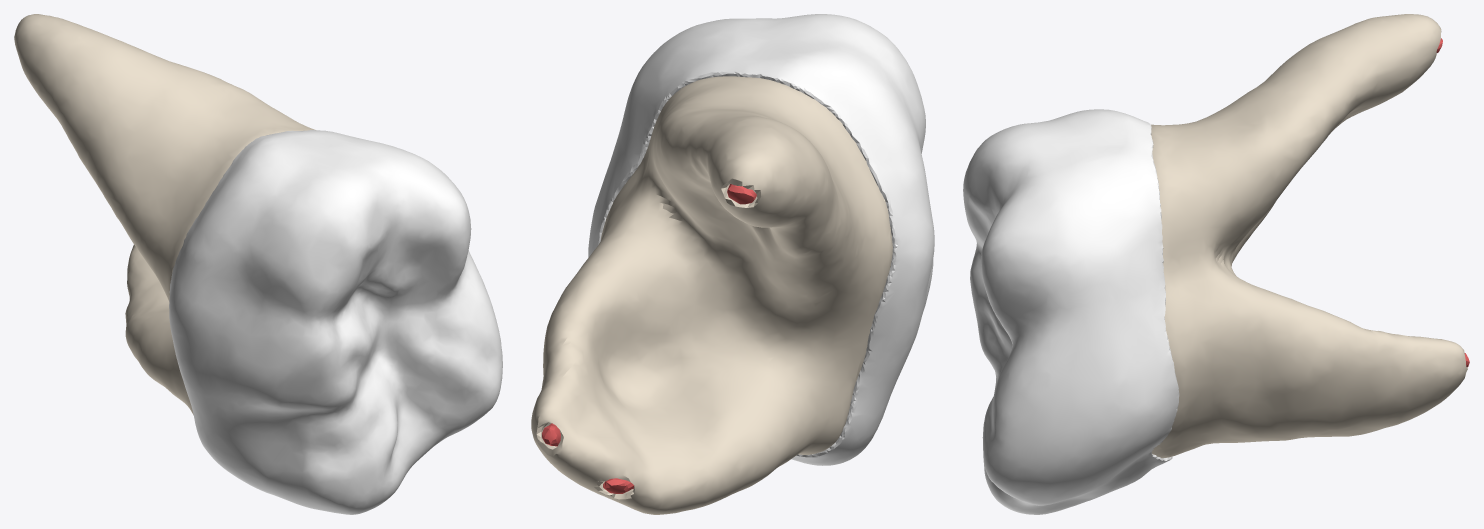
File: 乳牙下颌第二磨牙.fbx
3 renders of one model, left to right at view 1: azimuth 30°, elevation 25°; view 2: azimuth 150°, elevation 25°; view 3: azimuth 270°, elevation 25°, orthographic. The views are drawn at different scales.
Parts seen in each view (by area): view 1: texture_W, texture_B; view 2: texture_B, texture_W, texture_S; view 3: texture_W, texture_B.
Boxes of the visible parts, <box> form: texture_W: <box>169,130,502,514</box>; texture_B: <box>14,14,315,414</box>; texture_B: <box>531,76,892,514</box>; texture_W: <box>588,14,934,465</box>; texture_S: <box>542,184,756,493</box>; texture_W: <box>963,109,1179,514</box>; texture_B: <box>1151,14,1467,458</box>.
Bounding box in the file's own units: 13.83 × 17.29 × 18.7.
Materials: 3 (3 with a texture image).
